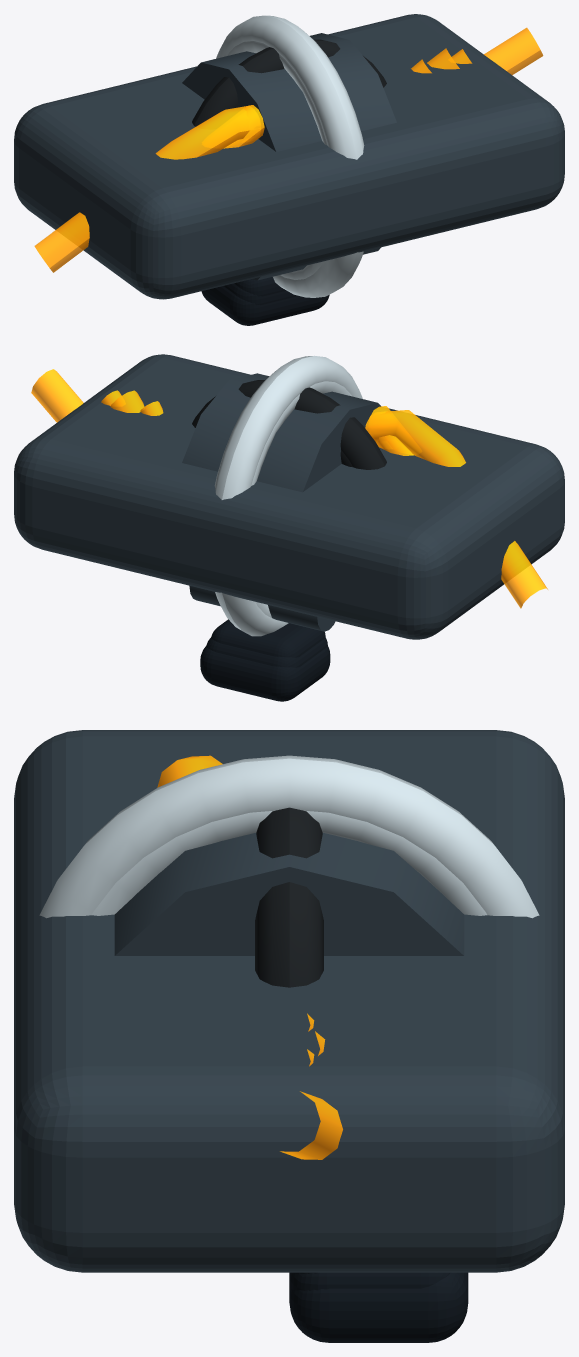
The model's file is body_19.glb.
3 views of the same model, one above another, from view 1: azimuth 30°, elevation 25°; view 2: azimuth 150°, elevation 25°; view 3: azimuth 270°, elevation 25° (orthographic). The views are drawn at different scales.
Parts seen in each view (by area): view 1: asset_mesh__body_0971__reference_body, asset_mesh__body_0988__rotor, asset_mesh__body_0988__functional_ring, asset_mesh__body_0989__fluid_path, asset_mesh__body_0970__mounting_base, asset_mesh__body_0976__service_element, asset_mesh__body_0987__functional_ring, asset_mesh__body_0983__fluid_path, asset_mesh__body_0969__mounting_base, asset_mesh__body_0977__mounting_base; view 2: asset_mesh__body_0971__reference_body, asset_mesh__body_0988__rotor, asset_mesh__body_0988__functional_ring, asset_mesh__body_0989__fluid_path, asset_mesh__body_0970__mounting_base, asset_mesh__body_0976__service_element, asset_mesh__body_0977__mounting_base, asset_mesh__body_0969__mounting_base, asset_mesh__body_0970__mounting_stem, asset_mesh__body_0983__fluid_path, asset_mesh__body_0987__functional_ring; view 3: asset_mesh__body_0971__reference_body, asset_mesh__body_0988__rotor, asset_mesh__body_0988__functional_ring, asset_mesh__body_0970__mounting_base, asset_mesh__body_0976__service_element, asset_mesh__body_0987__functional_ring, asset_mesh__body_0969__mounting_base, asset_mesh__body_0989__fluid_path.
Part boxes in pixels (box(x1,y1,x2,y2)): asset_mesh__body_0971__reference_body: box(14, 14, 564, 299); asset_mesh__body_0988__rotor: box(182, 33, 396, 280); asset_mesh__body_0988__functional_ring: box(216, 15, 364, 297); asset_mesh__body_0989__fluid_path: box(34, 27, 543, 272); asset_mesh__body_0970__mounting_base: box(201, 286, 329, 325); asset_mesh__body_0976__service_element: box(192, 39, 386, 126); asset_mesh__body_0987__functional_ring: box(227, 41, 327, 279); asset_mesh__body_0983__fluid_path: box(223, 48, 459, 148); asset_mesh__body_0969__mounting_base: box(224, 283, 298, 305); asset_mesh__body_0977__mounting_base: box(234, 277, 286, 296); asset_mesh__body_0971__reference_body: box(14, 354, 564, 639); asset_mesh__body_0988__rotor: box(182, 373, 381, 492); asset_mesh__body_0988__functional_ring: box(214, 356, 362, 636); asset_mesh__body_0989__fluid_path: box(31, 369, 547, 608); asset_mesh__body_0970__mounting_base: box(200, 646, 330, 701); asset_mesh__body_0976__service_element: box(192, 379, 386, 469); asset_mesh__body_0977__mounting_base: box(211, 619, 325, 657); asset_mesh__body_0969__mounting_base: box(206, 638, 327, 667); asset_mesh__body_0970__mounting_stem: box(189, 585, 335, 631); asset_mesh__body_0983__fluid_path: box(110, 390, 413, 455); asset_mesh__body_0987__functional_ring: box(251, 381, 351, 619); asset_mesh__body_0971__reference_body: box(14, 730, 564, 1272); asset_mesh__body_0988__rotor: box(114, 833, 464, 955); asset_mesh__body_0988__functional_ring: box(39, 755, 539, 918); asset_mesh__body_0970__mounting_base: box(289, 1272, 468, 1342); asset_mesh__body_0976__service_element: box(255, 807, 323, 987); asset_mesh__body_0987__functional_ring: box(92, 810, 486, 915); asset_mesh__body_0969__mounting_base: box(289, 1272, 450, 1290); asset_mesh__body_0989__fluid_path: box(157, 755, 342, 1159).
Bounding box in the file's own units: 1.73 × 0.9772 × 0.882.
